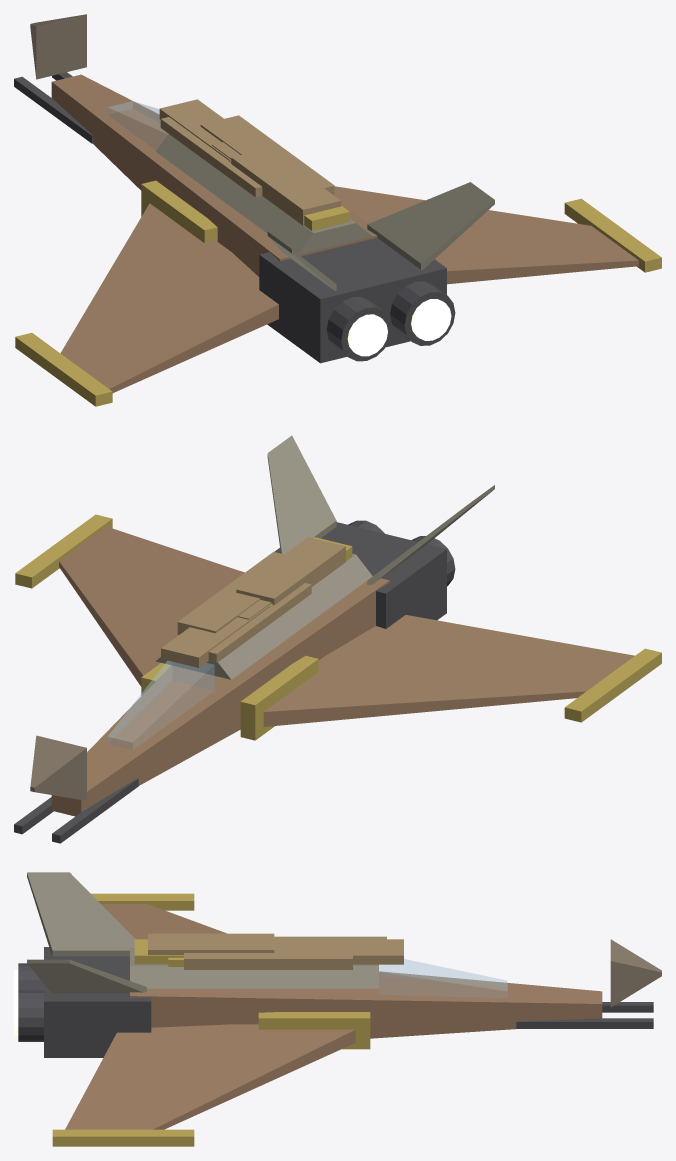
The model's file is ship_XS_FIGHTER.glb.
3 views of the same model, one above another, from view 1: azimuth 30°, elevation 25°; view 2: azimuth 150°, elevation 25°; view 3: azimuth 270°, elevation 25° (orthographic). The views are drawn at different scales.
Visible parts, largest first — view 1: XS_FIGHTER_Hull-col, XS_FIGHTER_Engines, XS_FIGHTER_Armor, XS_FIGHTER_ScrapPlates, XS_FIGHTER_Trim, XS_FIGHTER_RamSpikes, XS_FIGHTER_EngineGlow, XS_FIGHTER_Glass-col, XS_FIGHTER_ScrapTrim; view 2: XS_FIGHTER_Hull-col, XS_FIGHTER_Armor, XS_FIGHTER_ScrapPlates, XS_FIGHTER_Engines, XS_FIGHTER_Trim, XS_FIGHTER_Glass-col, XS_FIGHTER_RamSpikes; view 3: XS_FIGHTER_Hull-col, XS_FIGHTER_Armor, XS_FIGHTER_Engines, XS_FIGHTER_ScrapPlates, XS_FIGHTER_Trim, XS_FIGHTER_Glass-col, XS_FIGHTER_RamSpikes, XS_FIGHTER_ScrapTrim.
Boxes of the visible parts, box(x1,y1,x2,y2) form: XS_FIGHTER_Hull-col: box(51, 74, 638, 392); XS_FIGHTER_Engines: box(14, 72, 455, 363); XS_FIGHTER_Armor: box(155, 134, 494, 290); XS_FIGHTER_ScrapPlates: box(159, 99, 341, 225); XS_FIGHTER_Trim: box(15, 180, 661, 406); XS_FIGHTER_RamSpikes: box(30, 14, 86, 79); XS_FIGHTER_EngineGlow: box(347, 299, 451, 356); XS_FIGHTER_Glass-col: box(108, 101, 168, 149); XS_FIGHTER_ScrapTrim: box(229, 160, 349, 230); XS_FIGHTER_Hull-col: box(51, 526, 634, 816); XS_FIGHTER_Armor: box(156, 435, 494, 679); XS_FIGHTER_ScrapPlates: box(161, 537, 345, 667); XS_FIGHTER_Engines: box(14, 520, 455, 843); XS_FIGHTER_Trim: box(15, 514, 661, 740); XS_FIGHTER_Glass-col: box(108, 661, 214, 749); XS_FIGHTER_RamSpikes: box(30, 735, 86, 800); XS_FIGHTER_Hull-col: box(65, 904, 602, 1129); XS_FIGHTER_Armor: box(27, 872, 378, 993); XS_FIGHTER_Engines: box(18, 947, 653, 1057); XS_FIGHTER_ScrapPlates: box(148, 933, 403, 969); XS_FIGHTER_Trim: box(52, 893, 370, 1146); XS_FIGHTER_Glass-col: box(379, 959, 507, 997); XS_FIGHTER_RamSpikes: box(610, 939, 661, 1007); XS_FIGHTER_ScrapTrim: box(134, 939, 183, 966).
Size of the model in its own units: 13.4 by 2.95 by 15.09.
